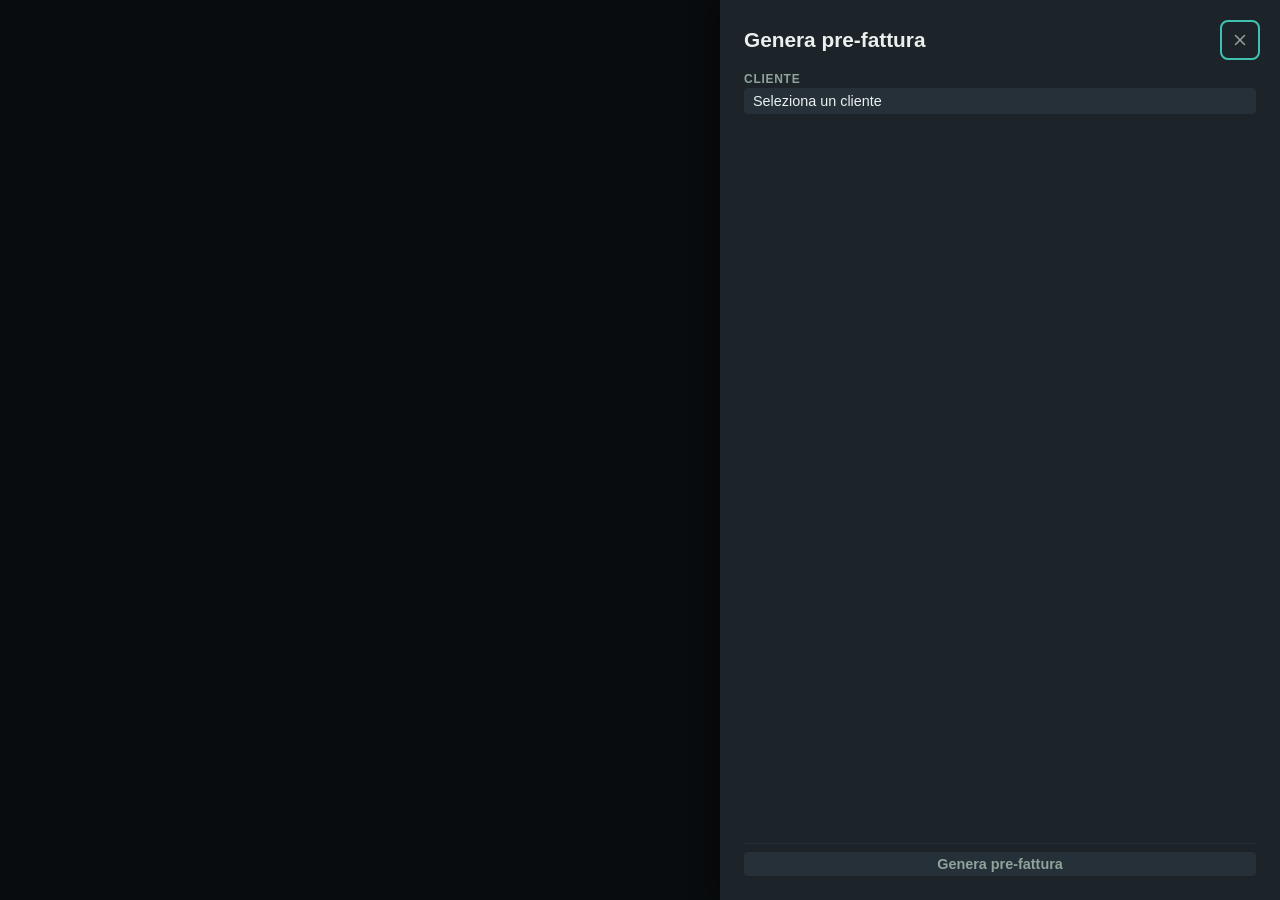
it: GenerateInvoiceDrawerComponent › apre l'anteprima con la selezione corrente invece di generare direttamente
This screenshot has width=1280, height=900.
Select "Cliente Uno" in the dropdown labelled "Cliente" at (1000, 101), box [744,88,1256,114]
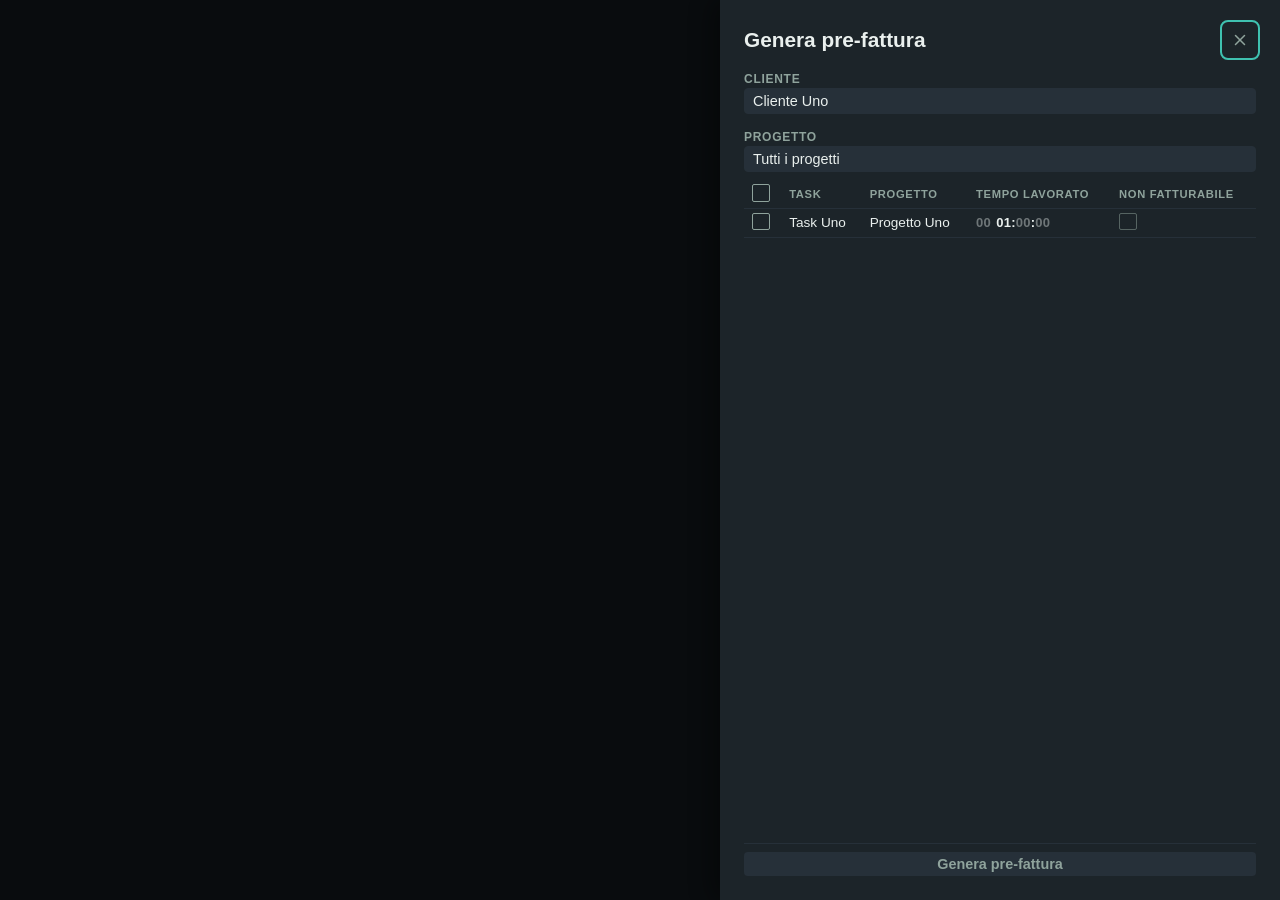
Click the checkbox named "Includi Task Uno nella pre-fattura" at (761, 221), box [752,213,770,230]
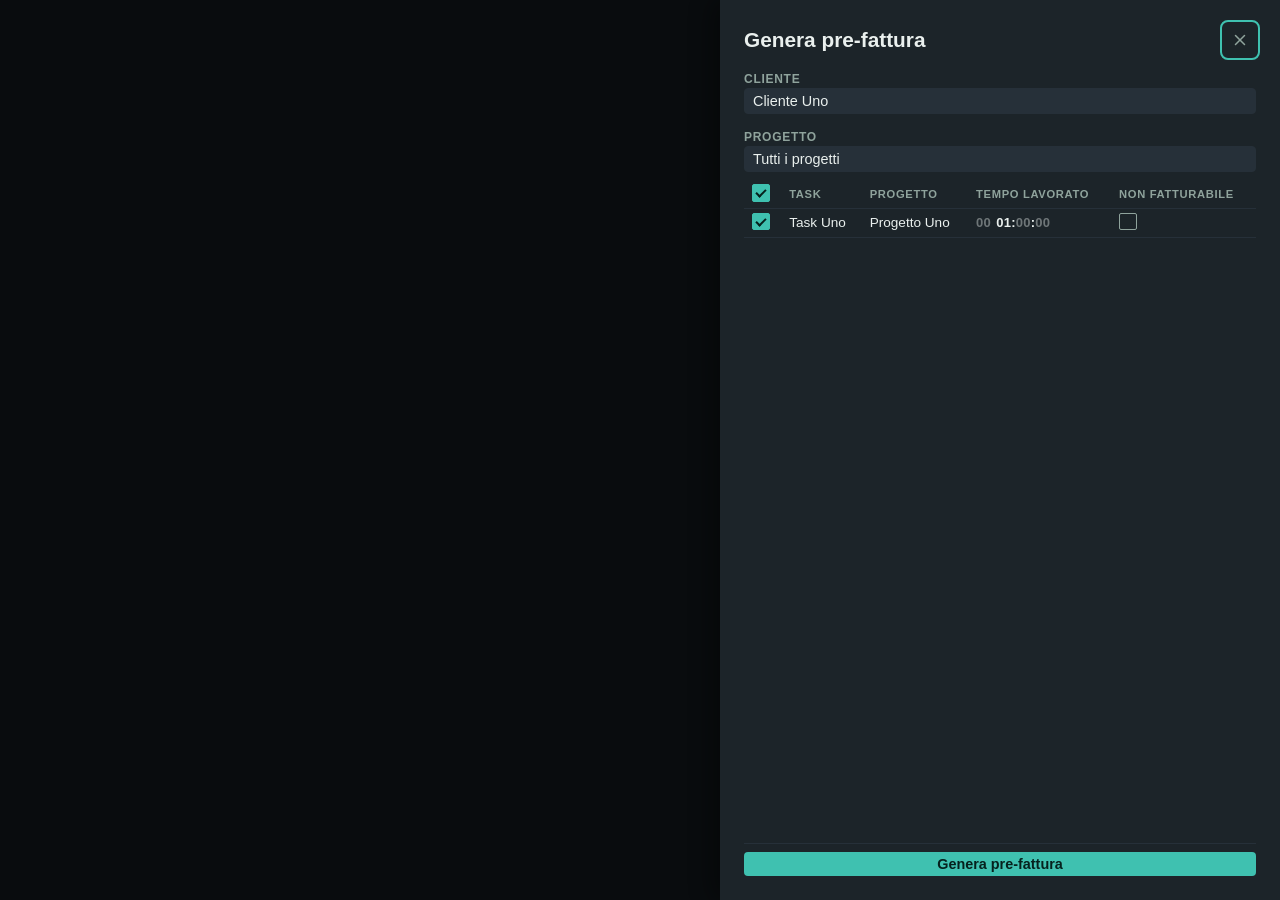
Click the checkbox named "Segna Task Uno come non fatturabile" at (1128, 221), box [1119,213,1137,230]
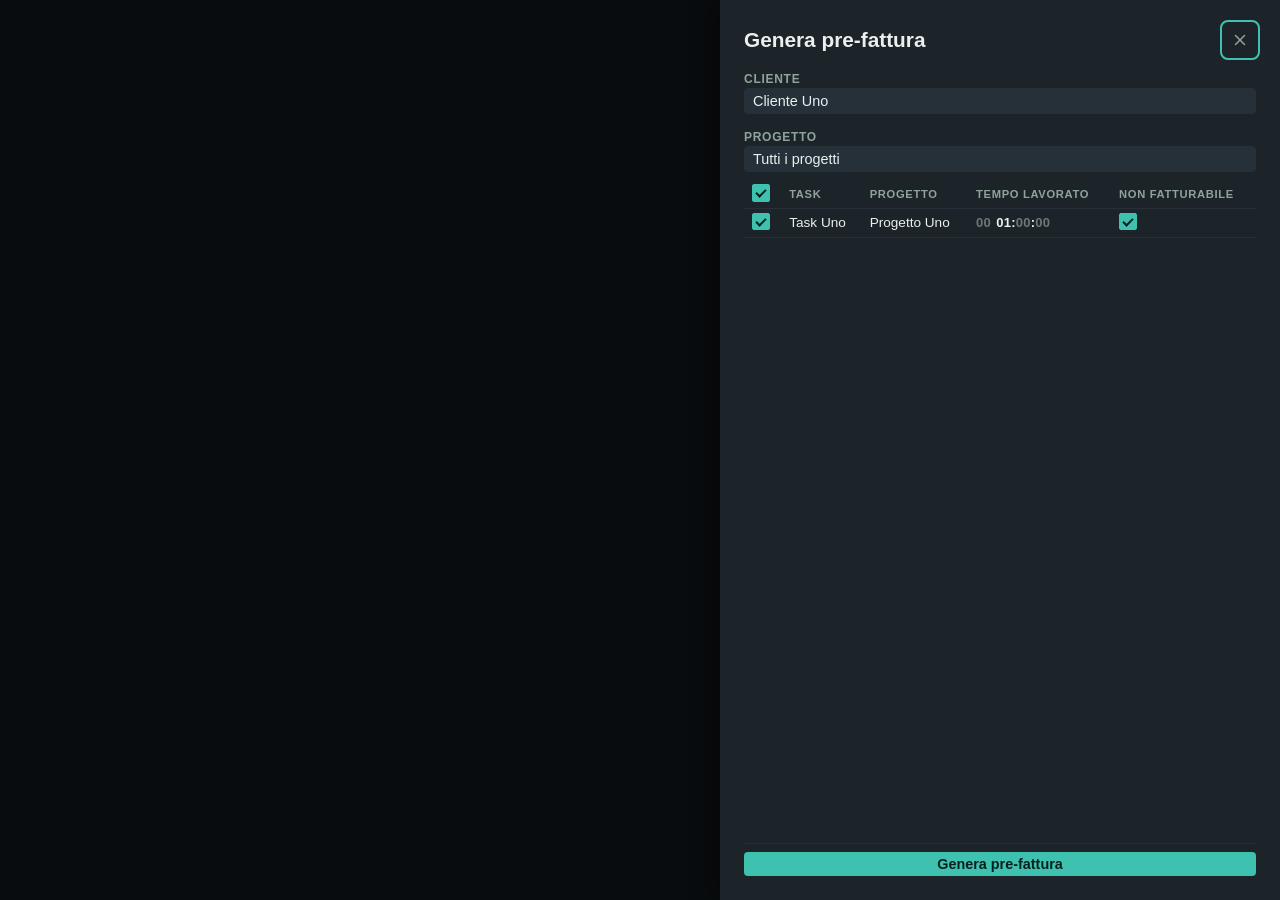
Click the button "Genera pre-fattura" at (1000, 864), box [744,852,1256,876]
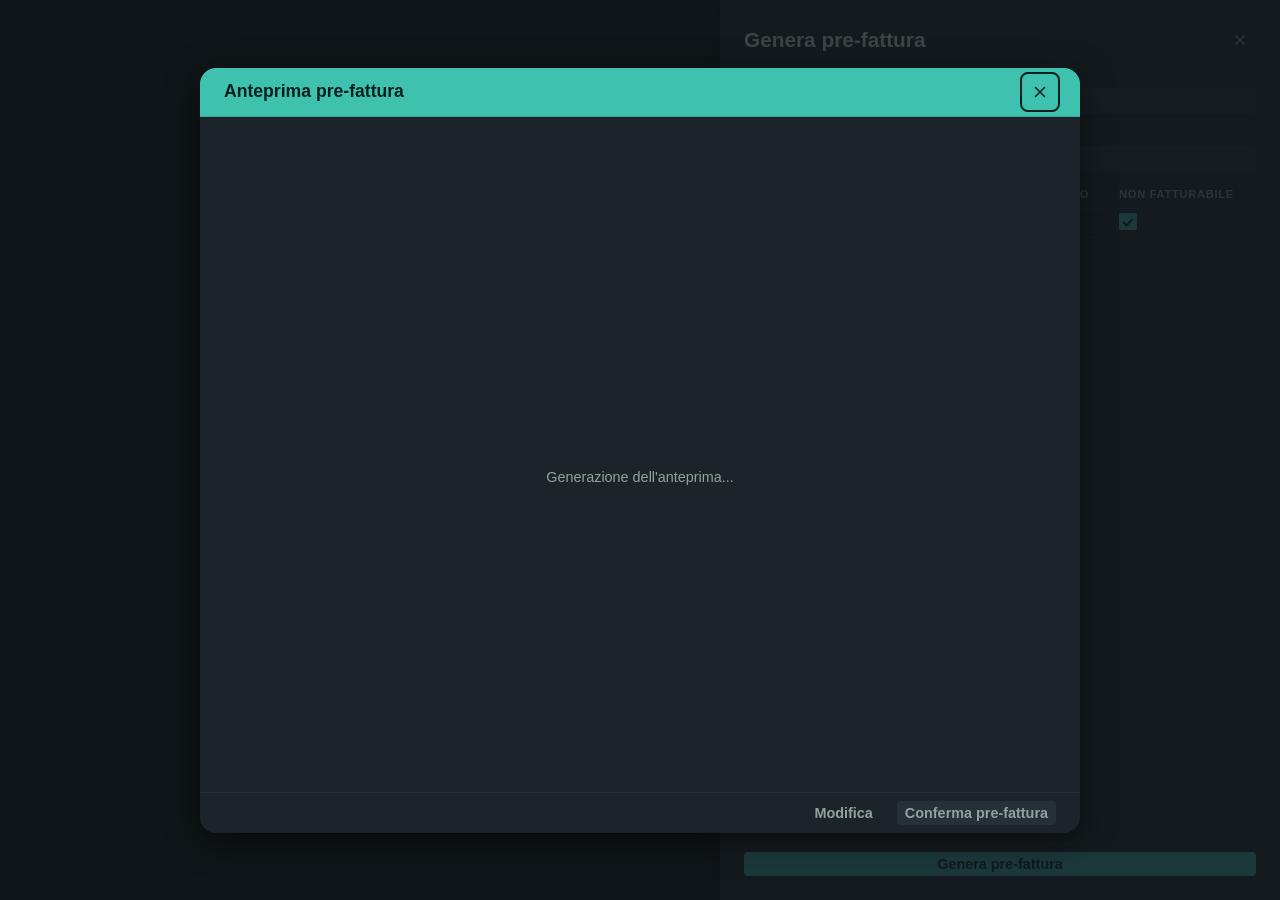
Now the heading "Anteprima pre-fattura" is shown, box [224,81,404,101]
